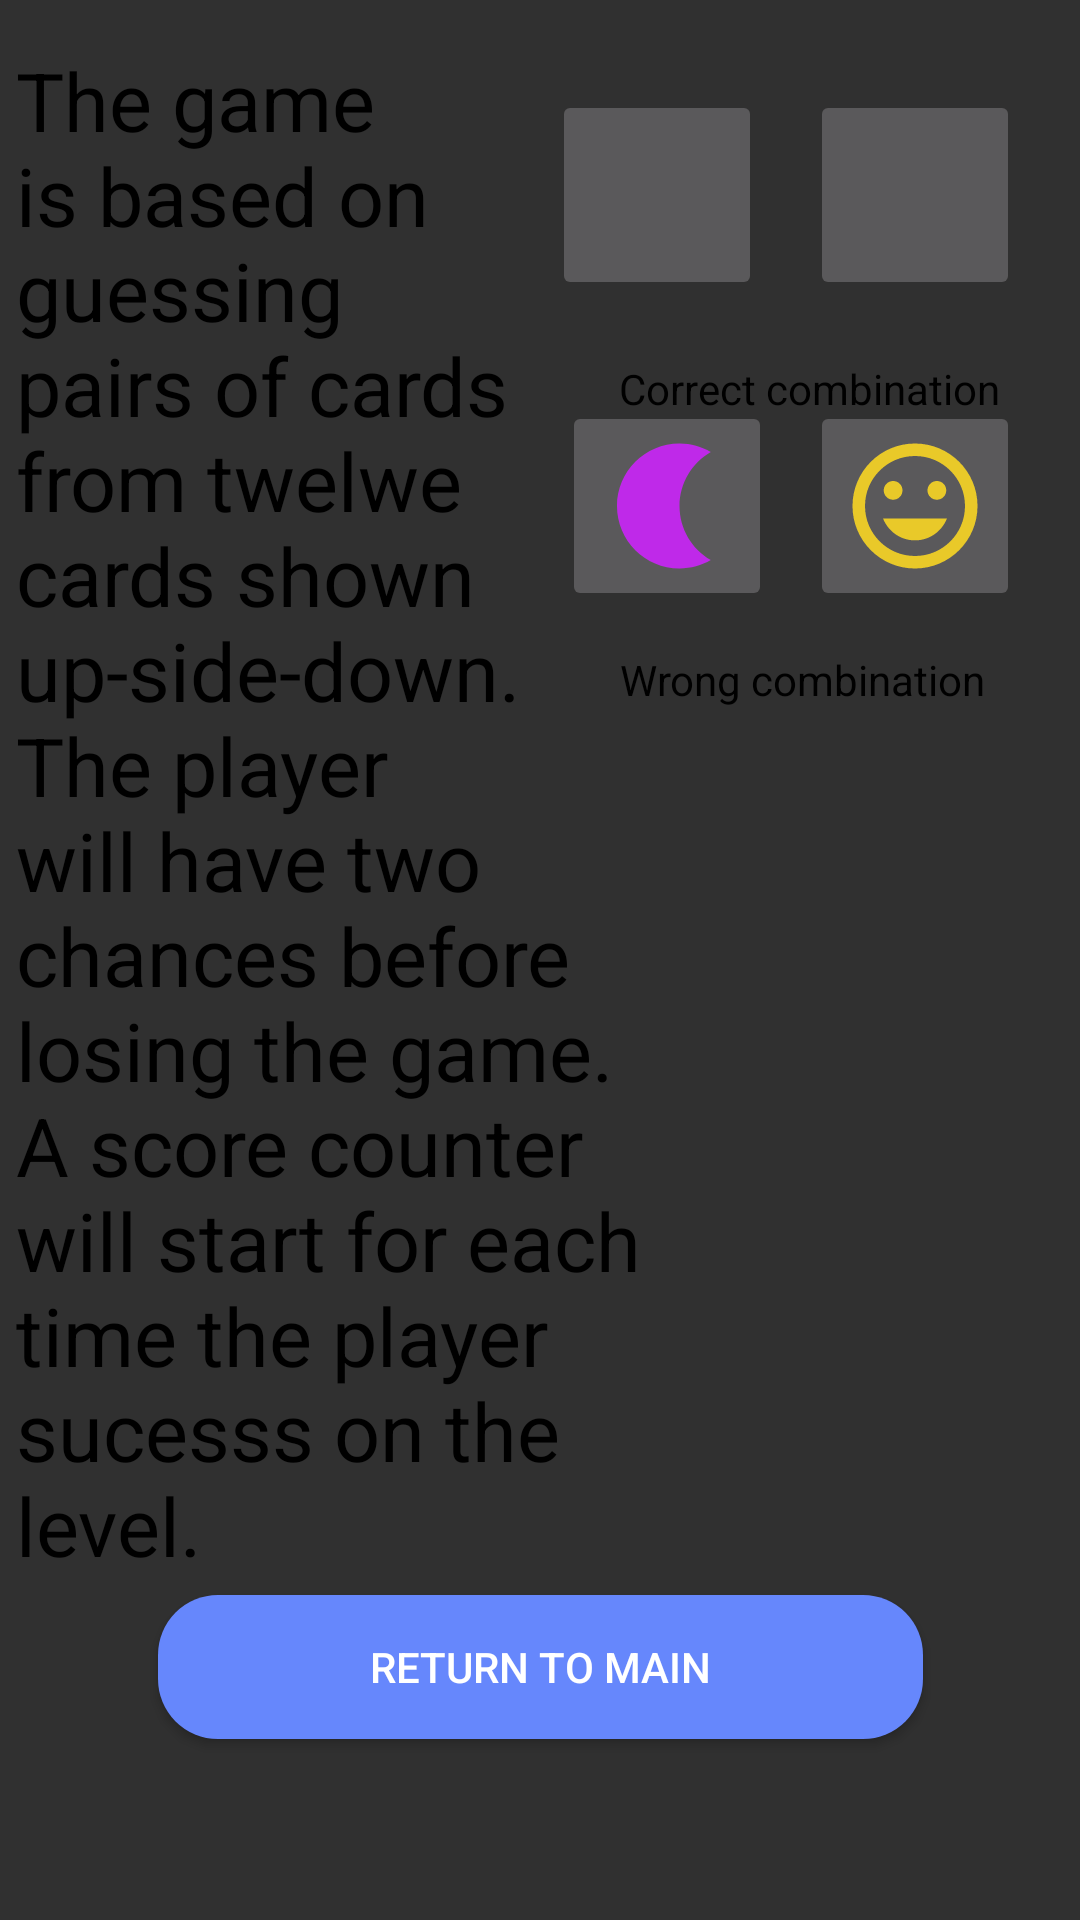

Where to tap for icons on this 1080w x 1920h app screen, as [x,y]:
moon: [667,506]
smiley: [915,506]
